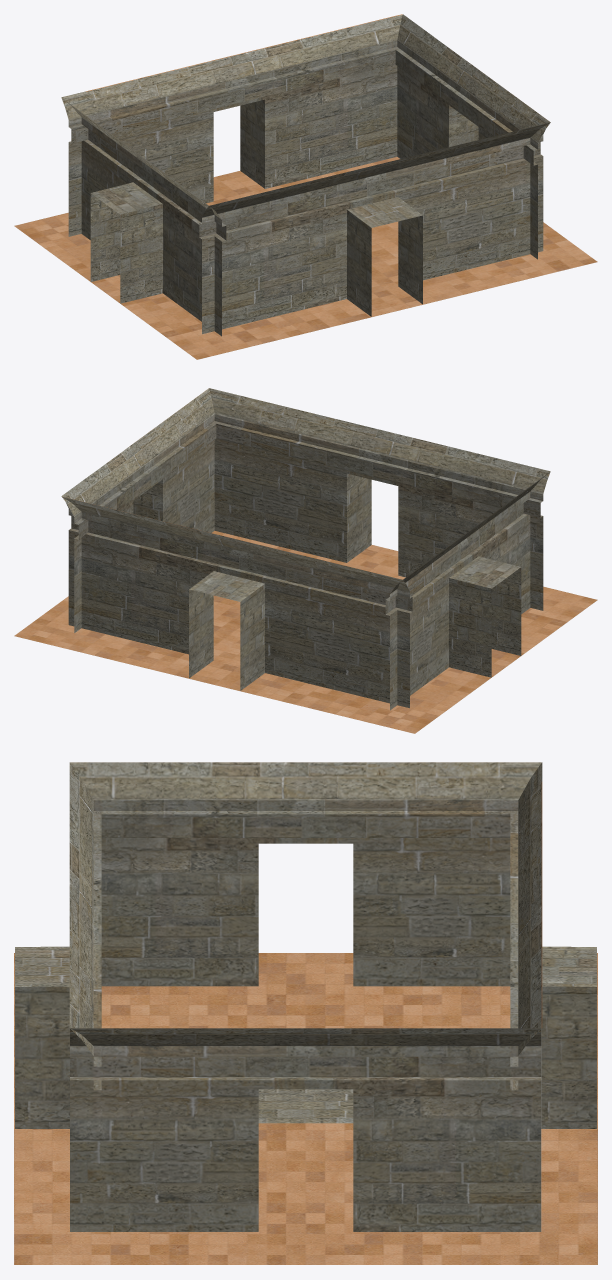
The model's file is Room.fbx.
The picture shows the model from 3 angles, top to bottom: view 1: azimuth 30°, elevation 25°; view 2: azimuth 150°, elevation 25°; view 3: azimuth 270°, elevation 25°; orthographic projection. The views are drawn at different scales.
Visible parts, largest first — view 1: Room; view 2: Room; view 3: Room.
Boxes of the visible parts, bbox=[...] form: Room: bbox=[14, 14, 597, 359]; Room: bbox=[14, 388, 597, 733]; Room: bbox=[14, 762, 597, 1264].
Size of the model in its own units: 939 by 301 by 742.
